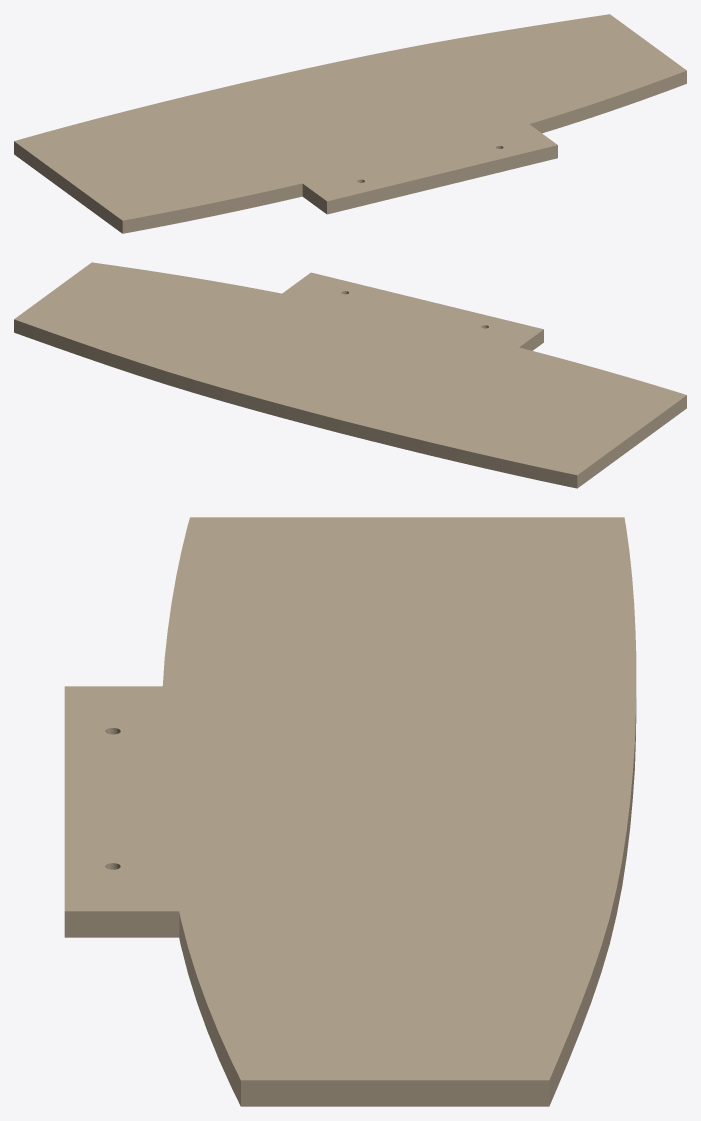
File: T-HW-MID.glb
3 renders of one model, top to bottom at view 1: azimuth 30°, elevation 25°; view 2: azimuth 150°, elevation 25°; view 3: azimuth 270°, elevation 25°, orthographic. The views are drawn at different scales.
Parts seen in each view (by area): view 1: geometry_0; view 2: geometry_0; view 3: geometry_0.
Boxes of the visible parts, box(x1,y1,x2,y2) form: geometry_0: box(14, 14, 686, 233); geometry_0: box(14, 262, 686, 488); geometry_0: box(64, 517, 636, 1106).
Size of the model in its own units: 551 by 12 by 236.
